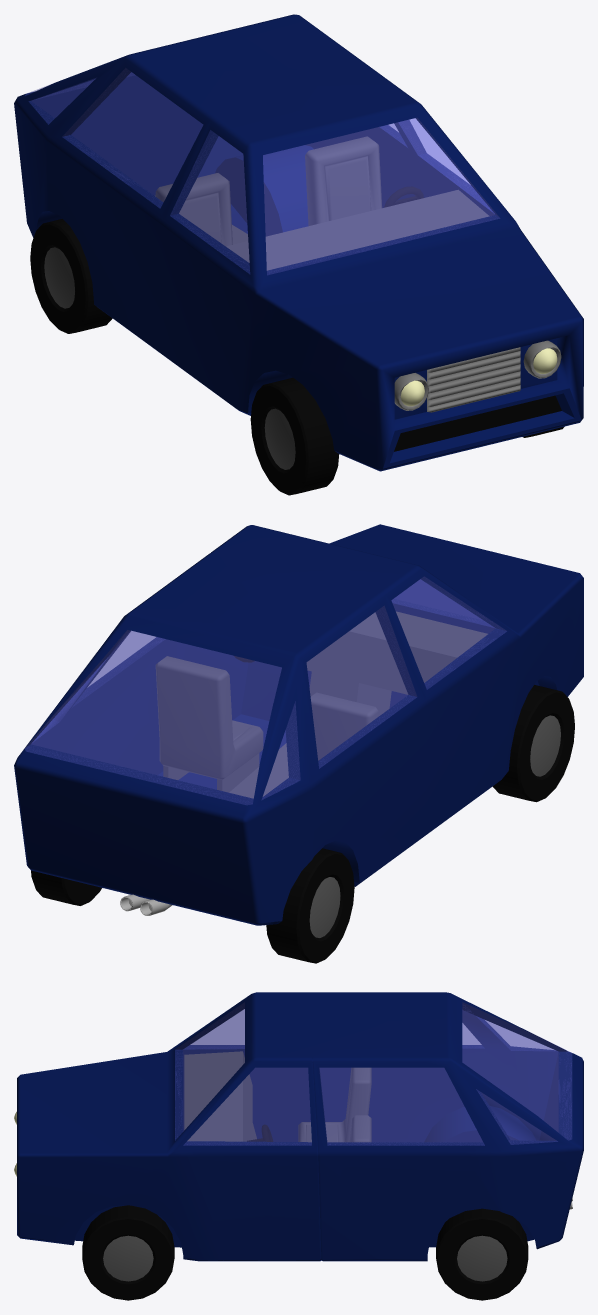
The model's file is Car.fbx.
3 renders of one model, top to bottom at view 1: azimuth 30°, elevation 25°; view 2: azimuth 150°, elevation 25°; view 3: azimuth 270°, elevation 25°, orthographic. The views are drawn at different scales.
Visible parts, largest first — view 1: polySurface4; view 2: polySurface4; view 3: polySurface4.
Part boxes in pixels (bbox=[...]): polySurface4: bbox=[14, 14, 583, 495]; polySurface4: bbox=[14, 524, 583, 963]; polySurface4: bbox=[14, 992, 583, 1300].
Size of the model in its own units: 8.17 by 8.03 by 18.52.
